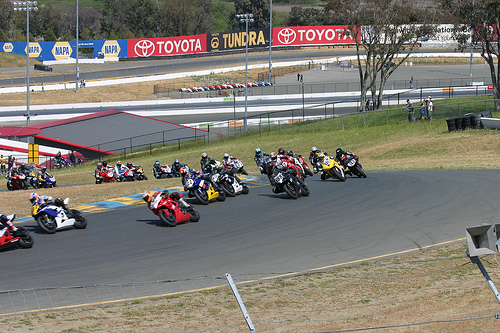helmet: (139, 191, 153, 203), (28, 194, 38, 201), (179, 168, 190, 174), (263, 163, 274, 168), (202, 153, 208, 160), (255, 148, 262, 153)
